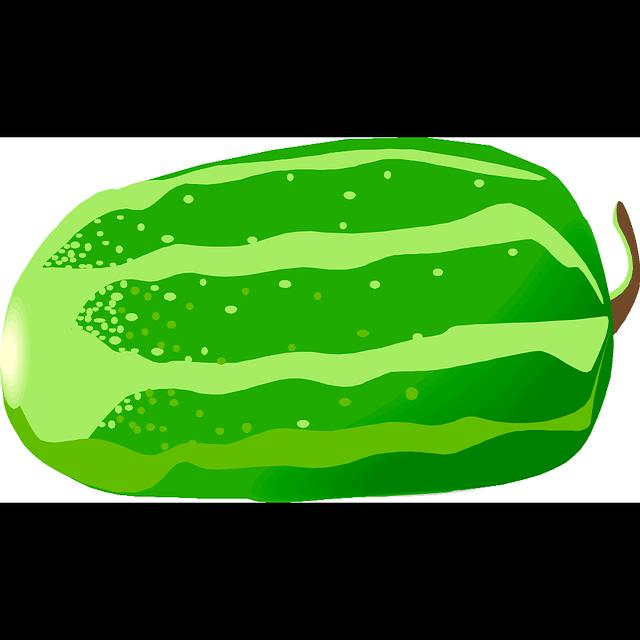Pickle: (1, 140, 614, 500)
